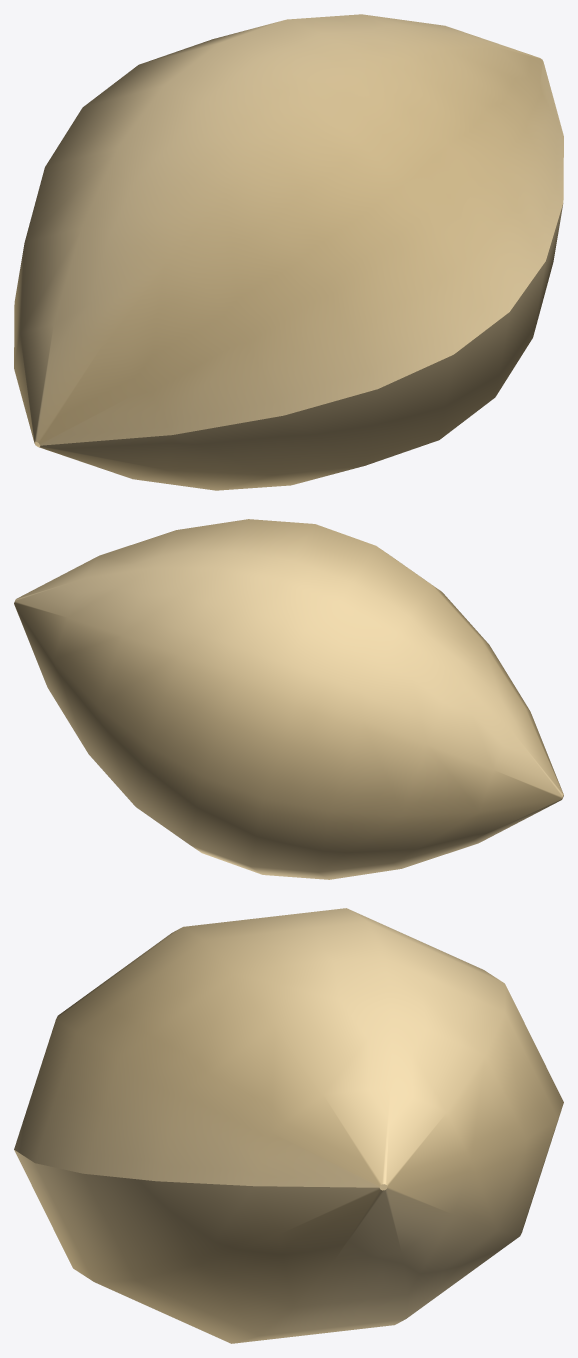
File: NP_Moonflower_Seed.fbx
3 views of the same model, one above another, from view 1: azimuth 30°, elevation 25°; view 2: azimuth 150°, elevation 25°; view 3: azimuth 270°, elevation 25° (orthographic). The views are drawn at different scales.
Parts seen in each view (by area): view 1: NP_Moonflower_Seed.001; view 2: NP_Moonflower_Seed.001; view 3: NP_Moonflower_Seed.001.
Part boxes in pixels (x1,y1,x2,y2): NP_Moonflower_Seed.001: [14, 14, 563, 490]; NP_Moonflower_Seed.001: [14, 519, 563, 879]; NP_Moonflower_Seed.001: [14, 908, 563, 1343].
Bounding box in the file's own units: 9.56 × 5.75 × 7.53.
